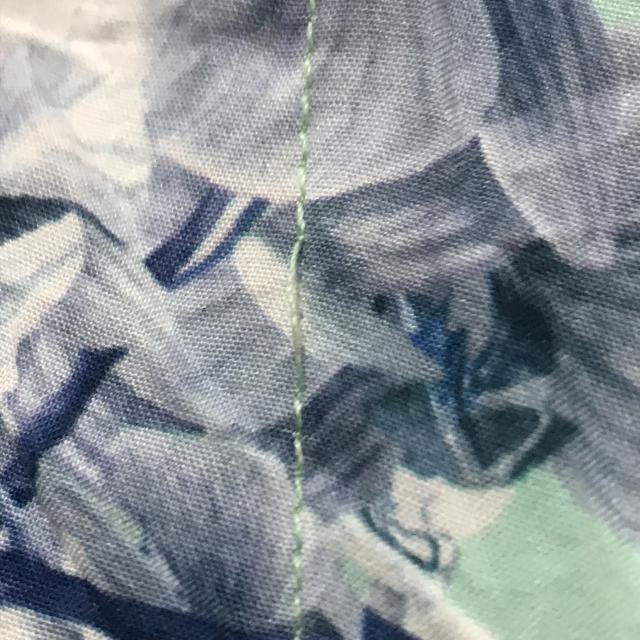skip: (272, 214, 326, 399)
